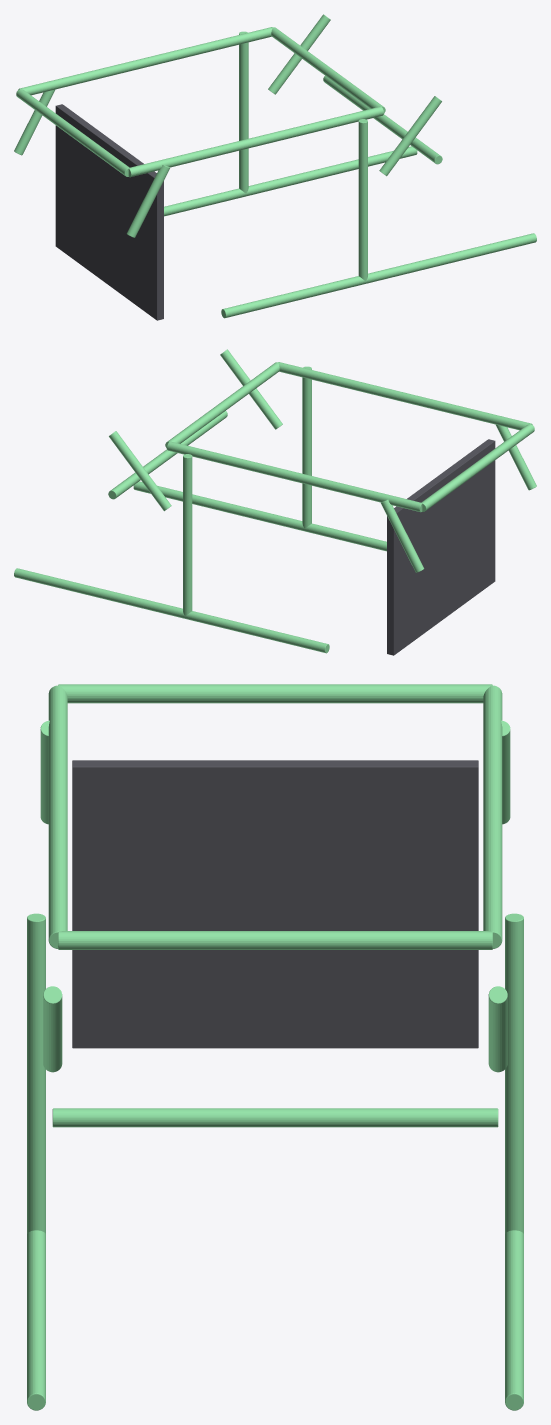
The model's file is body-framework.glb.
3 renders of one model, top to bottom at view 1: azimuth 30°, elevation 25°; view 2: azimuth 150°, elevation 25°; view 3: azimuth 270°, elevation 25°, orthographic. The views are drawn at different scales.
Visible parts, largest first — view 1: Tailgate_Aperture_Frame, Body_Sill_R, Roof_Rail_R, Roof_Rail_L, Body_Sill_L, B_Pillar_R, B_Pillar_L, Roof_Header_Rear, Roof_Header_Front, Cowl_Bar_Front, A_Pillar_R, A_Pillar_L (+2 smaller); view 2: Tailgate_Aperture_Frame, Body_Sill_L, Roof_Rail_L, Roof_Rail_R, Body_Sill_R, B_Pillar_L, B_Pillar_R, Roof_Header_Rear, Roof_Header_Front, Cowl_Bar_Front, A_Pillar_L, A_Pillar_R (+2 smaller); view 3: Tailgate_Aperture_Frame, Cowl_Bar_Front, Roof_Header_Rear, Roof_Header_Front, B_Pillar_L, B_Pillar_R, Roof_Rail_L, Roof_Rail_R, Body_Sill_L, Body_Sill_R, A_Pillar_L, A_Pillar_R (+2 smaller).
Boxes of the visible parts, <box> form: Tailgate_Aperture_Frame: <box>55,104,163,320</box>; Body_Sill_R: <box>221,233,536,318</box>; Roof_Rail_R: <box>128,106,383,177</box>; Roof_Rail_L: <box>18,27,272,95</box>; Body_Sill_L: <box>164,146,417,216</box>; B_Pillar_R: <box>358,119,367,280</box>; B_Pillar_L: <box>239,31,248,193</box>; Roof_Header_Rear: <box>16,89,129,176</box>; Roof_Header_Front: <box>271,27,385,113</box>; Cowl_Bar_Front: <box>323,76,442,164</box>; A_Pillar_R: <box>379,96,441,176</box>; A_Pillar_L: <box>268,14,330,94</box>; Tailgate_Aperture_Frame: <box>387,439,495,655</box>; Body_Sill_L: <box>14,568,329,653</box>; Roof_Rail_L: <box>167,441,422,512</box>; Roof_Rail_R: <box>278,362,532,430</box>; Body_Sill_R: <box>133,481,386,551</box>; B_Pillar_L: <box>183,454,192,615</box>; B_Pillar_R: <box>302,366,311,528</box>; Roof_Header_Rear: <box>421,424,534,511</box>; Roof_Header_Front: <box>165,362,279,448</box>; Cowl_Bar_Front: <box>108,411,227,499</box>; A_Pillar_L: <box>109,431,171,511</box>; A_Pillar_R: <box>220,349,282,429</box>; Tailgate_Aperture_Frame: <box>72,760,478,1048</box>; Cowl_Bar_Front: <box>52,1108,498,1127</box>; Roof_Header_Rear: <box>58,684,492,703</box>; Roof_Header_Front: <box>58,931,492,949</box>; B_Pillar_L: <box>505,913,523,1233</box>; B_Pillar_R: <box>27,913,45,1233</box>; Roof_Rail_L: <box>483,685,502,948</box>; Roof_Rail_R: <box>48,685,67,948</box>; Body_Sill_L: <box>505,1230,523,1410</box>; Body_Sill_R: <box>27,1230,45,1410</box>; A_Pillar_L: <box>488,986,507,1072</box>; A_Pillar_R: <box>43,986,62,1072</box>.
Bounding box in the file's own units: 3.44 × 1.36 × 1.83.
